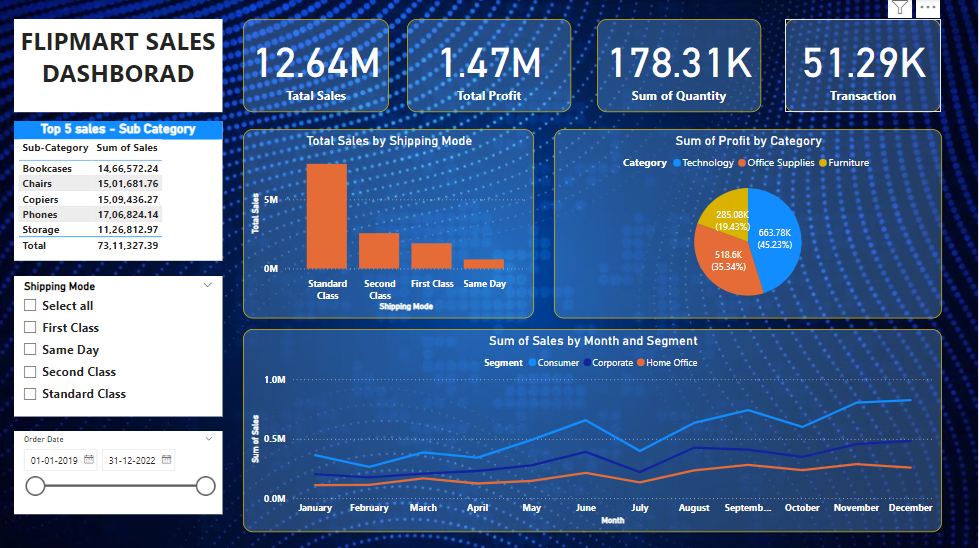

What the dashboard file says about the page in this screenshot:
{"tool":"powerbi","page":{"name":"Page 1","canvas":[1280,720],"ordinal":0},"visuals":[{"type":"card","fields":{"Values":["Sum(Sales.Sales)"]},"box":[317.6,26.5,191.2,122.1],"z":0},{"type":"card","fields":{"Values":["Sum(Sales.Profit)"]},"box":[532.4,26.5,214.7,122.1],"z":1000},{"type":"card","fields":{"Values":["Sum(Sales.Quantity)"]},"box":[780.9,26.5,214.7,122.1],"z":2000},{"type":"card","fields":{"Values":["CountNonNull(Sales.Order ID)"]},"box":[1027.9,26.5,204.4,122.1],"z":3000},{"type":"clusteredColumnChart","title":"Total Sales by Shipping Mode","fields":{"Y":["Sum(Sales.Sales)"],"Category":["Sales.Shipping Mode"]},"box":[317.9,170.7,381.2,247.7],"z":4000},{"type":"pieChart","fields":{"Category":["Sales.Category"],"Y":["Sum(Sales.Profit)"]},"box":[725.3,170.7,507.9,247.7],"z":5000},{"type":"lineChart","fields":{"Y":["Sum(Sales.Sales)"],"Category":["Sales.Order Date.Variation.Date Hierarchy.Month"],"Series":["Sales.Segment"]},"box":[317.9,432.2,915.3,265.6],"z":6000},{"type":"tableEx","title":"Top 5 sales - Sub Category ","fields":{"Values":["Sales.Sub-Category","Sum(Sales.Sales)"]},"box":[17.9,159.7,272.5,183.1],"z":7000},{"type":"slicer","fields":{"Values":["Sales.Shipping Mode"]},"box":[17.9,362,272.5,184.4],"z":8000},{"type":"slicer","fields":{"Values":["Sales.Order Date"]},"box":[17.9,565.7,272.5,108.7],"z":9000},{"type":"textbox","box":[17.9,26.2,272.5,122.5],"z":10000}]}

Visuals, with their boxes in screenshot pixels (x1, y1, x2, y2), scaled from the page's 1280x720 canvas onto the 979x548 screenshot:
card - Sum(Sales.Sales): 243, 20, 389, 113
card - Sum(Sales.Profit): 407, 20, 571, 113
card - Sum(Sales.Quantity): 597, 20, 761, 113
card - CountNonNull(Sales.Order ID): 786, 20, 943, 113
"Total Sales by Shipping Mode" clusteredColumnChart: 243, 130, 535, 318
pieChart - Sales.Category x Sum(Sales.Profit): 555, 130, 943, 318
lineChart - Sum(Sales.Sales) x Sales.Order Date.Variation.Date Hierarchy.Month: 243, 329, 943, 531
"Top 5 sales - Sub Category " tableEx: 14, 122, 222, 261
slicer - Sales.Shipping Mode: 14, 276, 222, 416
slicer - Sales.Order Date: 14, 431, 222, 513
textbox: 14, 20, 222, 113
